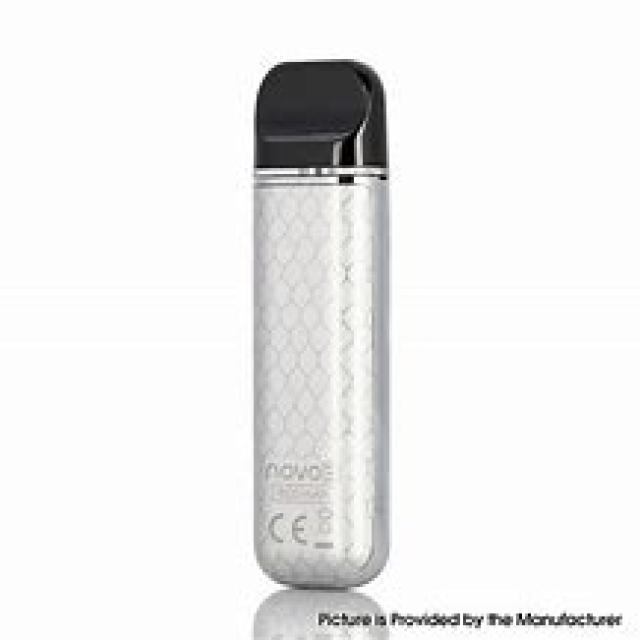Hazard: (248, 56, 389, 587)
